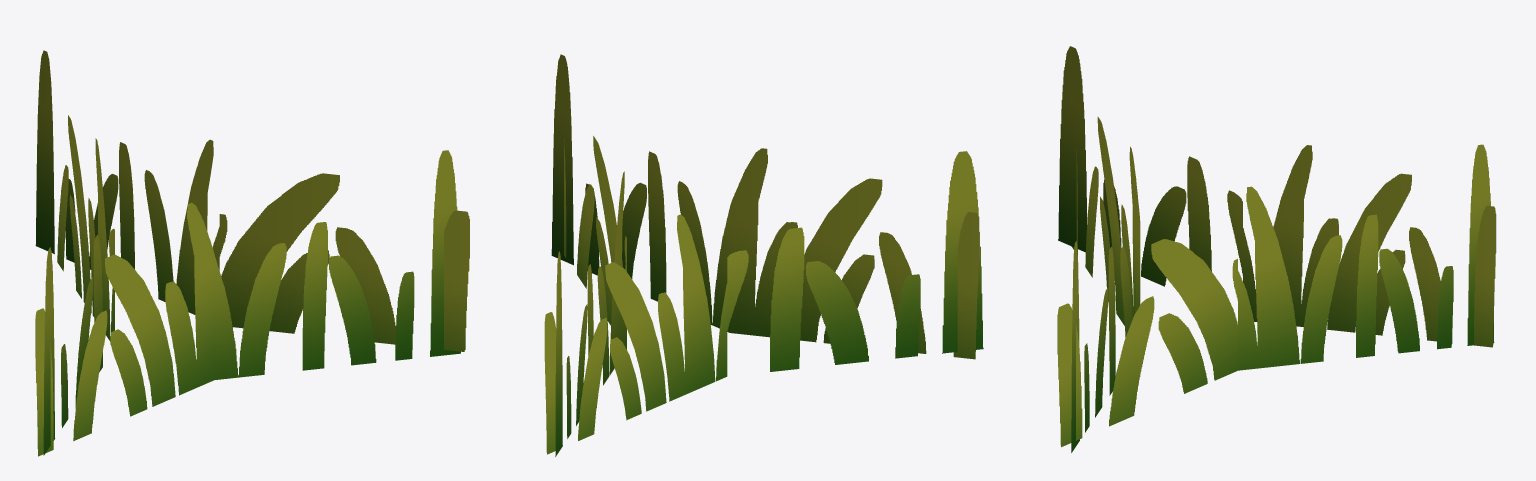
File: grass_03.FBX
3 views of the same model, side by side, from view 1: azimuth 30°, elevation 25°; view 2: azimuth 150°, elevation 25°; view 3: azimuth 270°, elevation 25° (orthographic).
Parts seen in each view (by area): view 1: Plane002; view 2: Plane002; view 3: Plane002.
Part boxes in pixels (x1,y1,x2,y2): Plane002: (35,50,469,456); Plane002: (544,54,983,456); Plane002: (1057,46,1496,452).
Size of the model in its own units: 40.85 by 23.57 by 35.73.
1 material, 1 textured.
